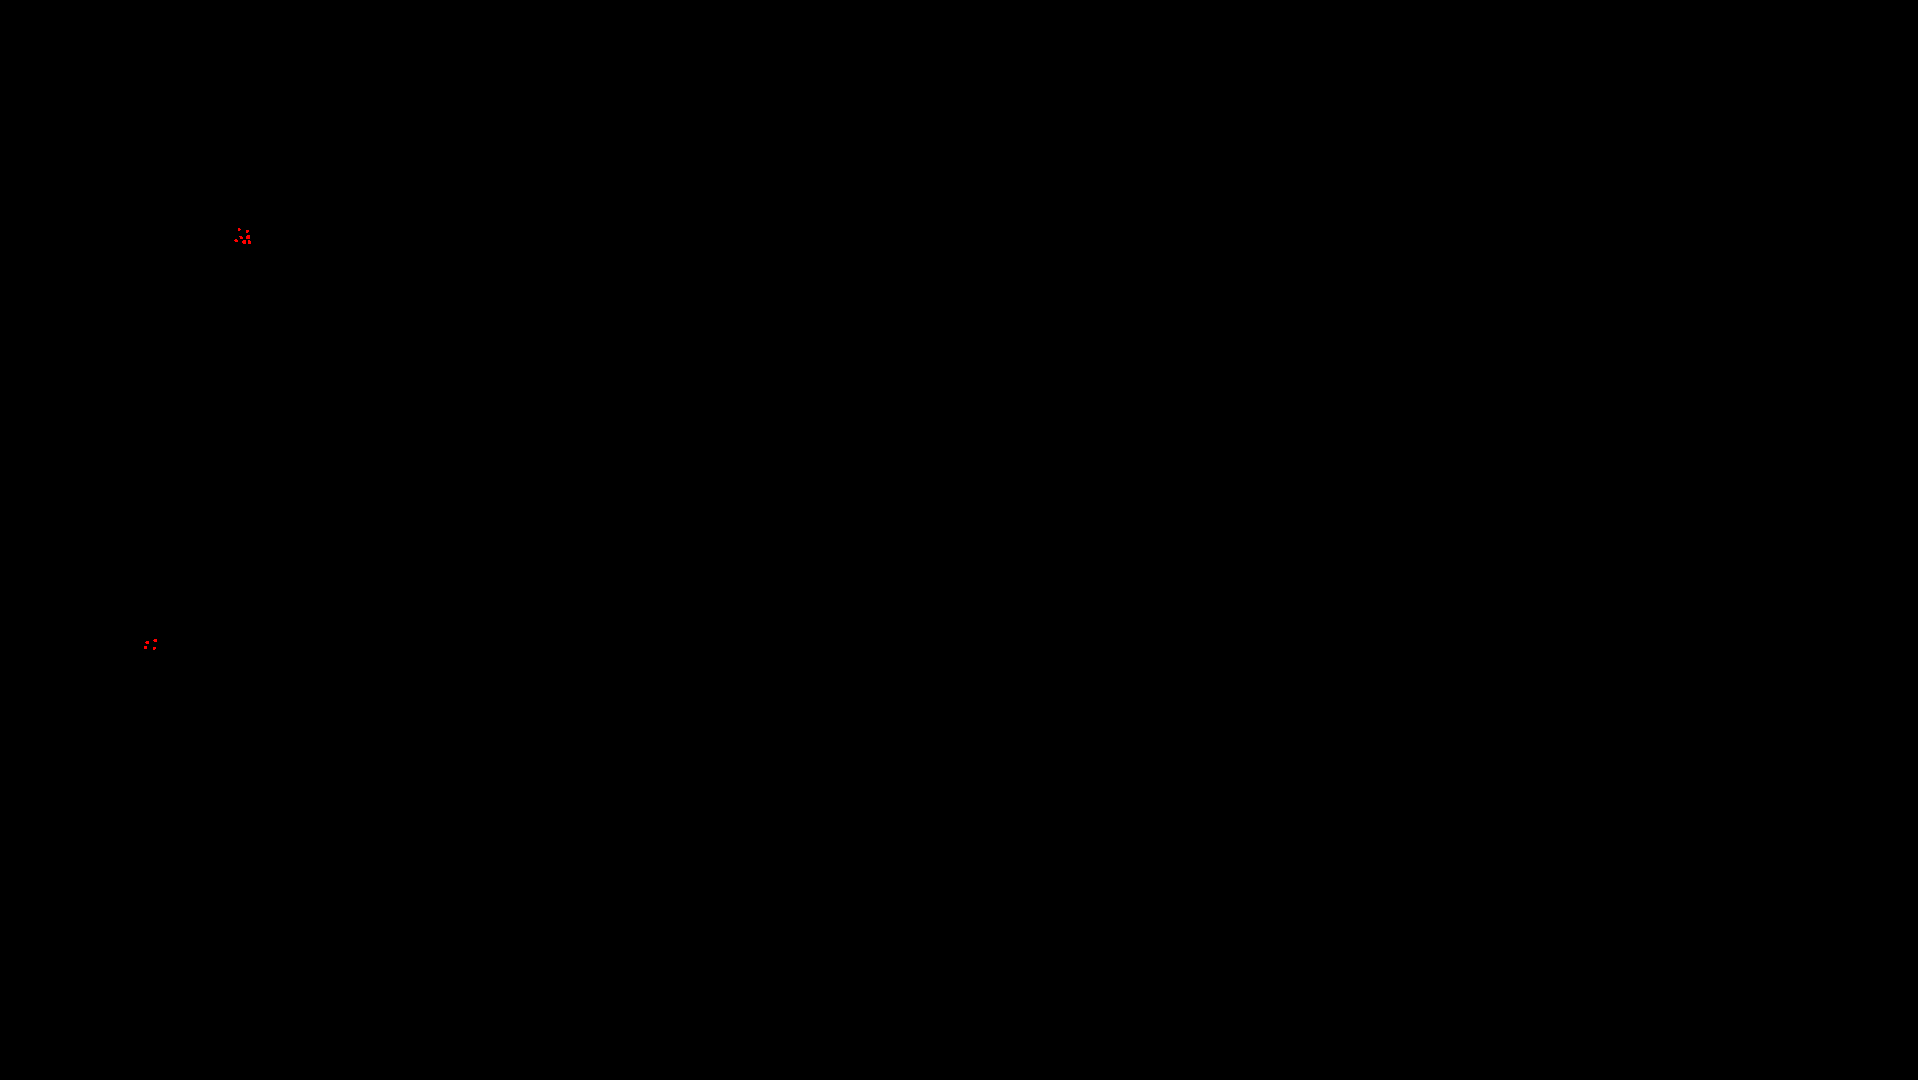Target: (246, 234, 250, 238), (234, 238, 238, 242), (242, 240, 246, 244), (248, 240, 252, 244), (144, 645, 148, 649), (238, 236, 242, 238), (153, 639, 157, 641), (145, 641, 149, 644), (153, 647, 155, 651), (238, 228, 241, 230), (246, 230, 249, 233)
